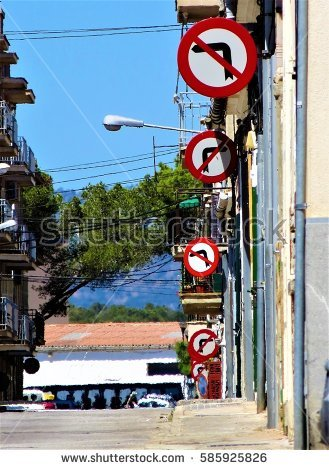No_left_turn: (177, 16, 258, 97), (184, 238, 219, 276)
No_right_turn: (186, 131, 236, 183), (189, 329, 219, 358)
